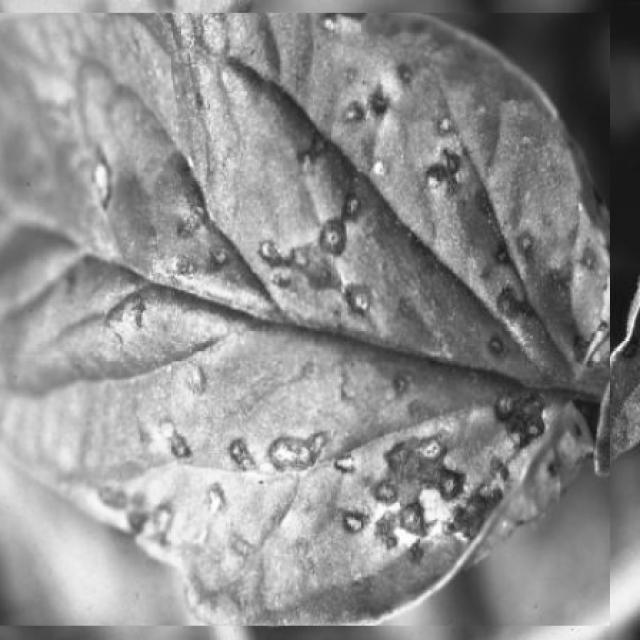Septoria: (0, 13, 610, 626)
